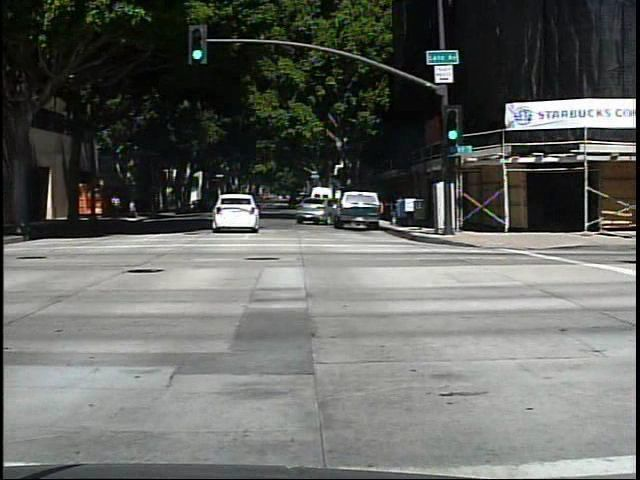person: (107, 189, 123, 221)
